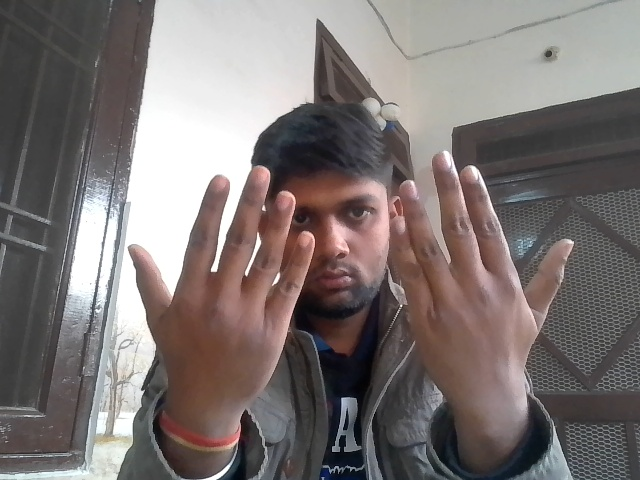ThankYou: (107, 135, 576, 390)
